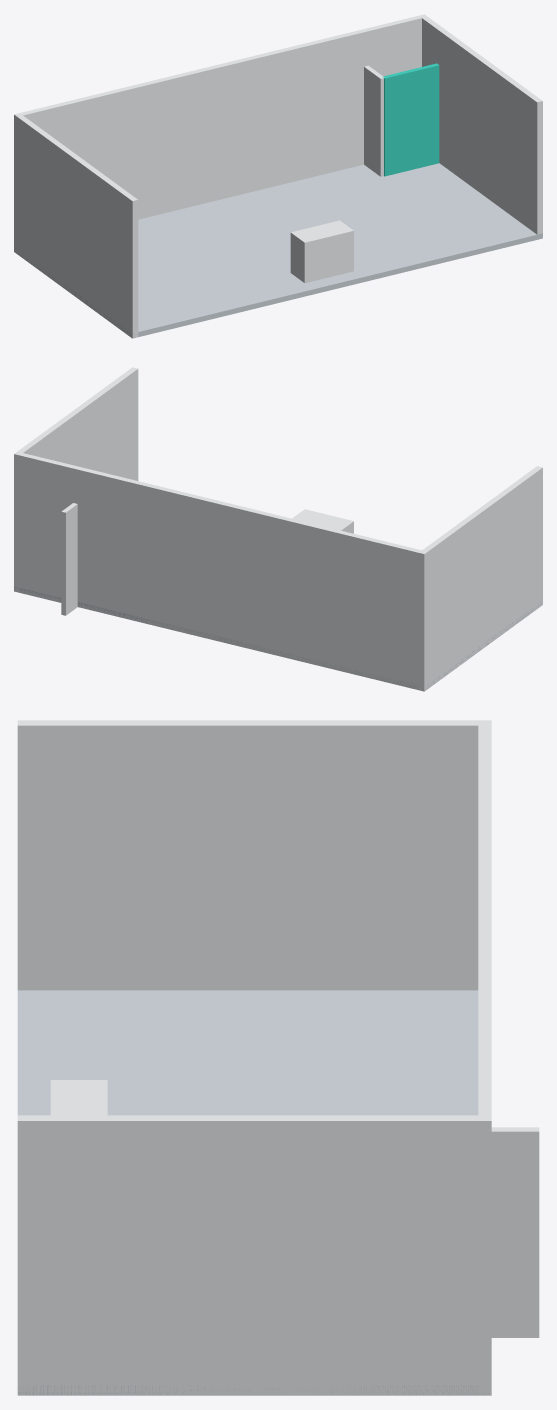
3 renders of one model, top to bottom at view 1: azimuth 30°, elevation 25°; view 2: azimuth 150°, elevation 25°; view 3: azimuth 270°, elevation 25°, orthographic. The views are drawn at different scales.
Visible parts, largest first — view 1: Exhibition Booth Concept; view 2: Exhibition Booth Concept; view 3: Exhibition Booth Concept.
Boxes of the visible parts, <box> form: Exhibition Booth Concept: <box>14,14,542,338</box>; Exhibition Booth Concept: <box>14,367,542,691</box>; Exhibition Booth Concept: <box>17,720,539,1395</box>.
Size of the model in its own units: 10 by 3.2 by 5.51.
